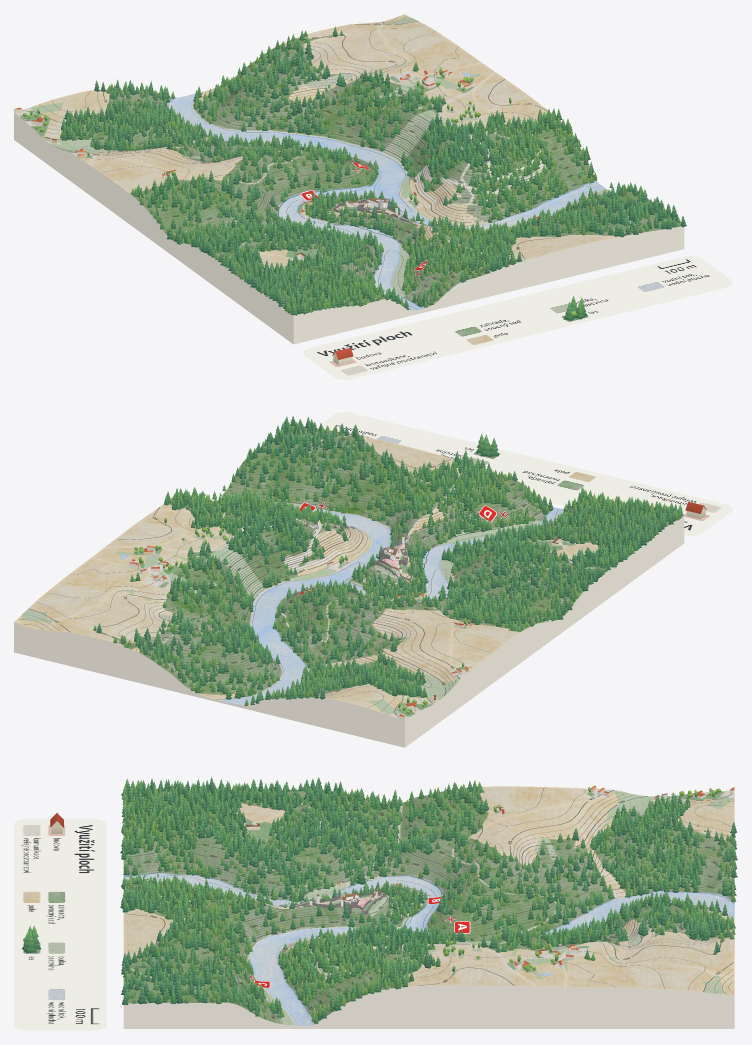
File: Zvikov_sada3_otazka1.glb
3 views of the same model, one above another, from view 1: azimuth 30°, elevation 25°; view 2: azimuth 150°, elevation 25°; view 3: azimuth 270°, elevation 25° (orthographic). The views are drawn at different scales.
Visible parts, largest first — view 1: DMR_1953, Zvikov_stromy_body_SMO5, legenda_panel, vrstevnice, Zvikov_SMO5_budovy, Node0, legenda_objekty; view 2: DMR_1953, Zvikov_stromy_body_SMO5, legenda_panel, vrstevnice, Zvikov_SMO5_budovy, Node0, legenda_objekty, popisky; view 3: DMR_1953, Zvikov_stromy_body_SMO5, legenda_panel, vrstevnice, Zvikov_SMO5_budovy, Node0, popisky, legenda_objekty.
Part boxes in pixels (box(x1,y1,x2,y2)): DMR_1953: box(14, 14, 684, 344); Zvikov_stromy_body_SMO5: box(23, 26, 686, 315); legenda_panel: box(303, 256, 732, 379); vrstevnice: box(22, 16, 678, 309); Zvikov_SMO5_budovy: box(14, 70, 471, 258); Node0: box(328, 197, 411, 222); legenda_objekty: box(332, 295, 587, 365); DMR_1953: box(14, 425, 684, 747); Zvikov_stromy_body_SMO5: box(93, 415, 683, 714); legenda_panel: box(316, 412, 732, 535); vrstevnice: box(19, 430, 624, 716); Zvikov_SMO5_budovy: box(129, 538, 561, 719); Node0: box(373, 535, 411, 583); legenda_objekty: box(476, 433, 706, 519); popisky: box(54, 438, 570, 692); DMR_1953: box(123, 786, 734, 1028); Zvikov_stromy_body_SMO5: box(120, 777, 737, 1023); legenda_panel: box(14, 818, 106, 1030); vrstevnice: box(124, 787, 733, 1023); Zvikov_SMO5_budovy: box(246, 785, 734, 968); Node0: box(295, 889, 386, 914); popisky: box(133, 794, 724, 1018); legenda_objekty: box(22, 813, 63, 953).
Bounding box in the file's own units: 1491 × 188 × 2151.
Materials: 11 (7 with a texture image).
